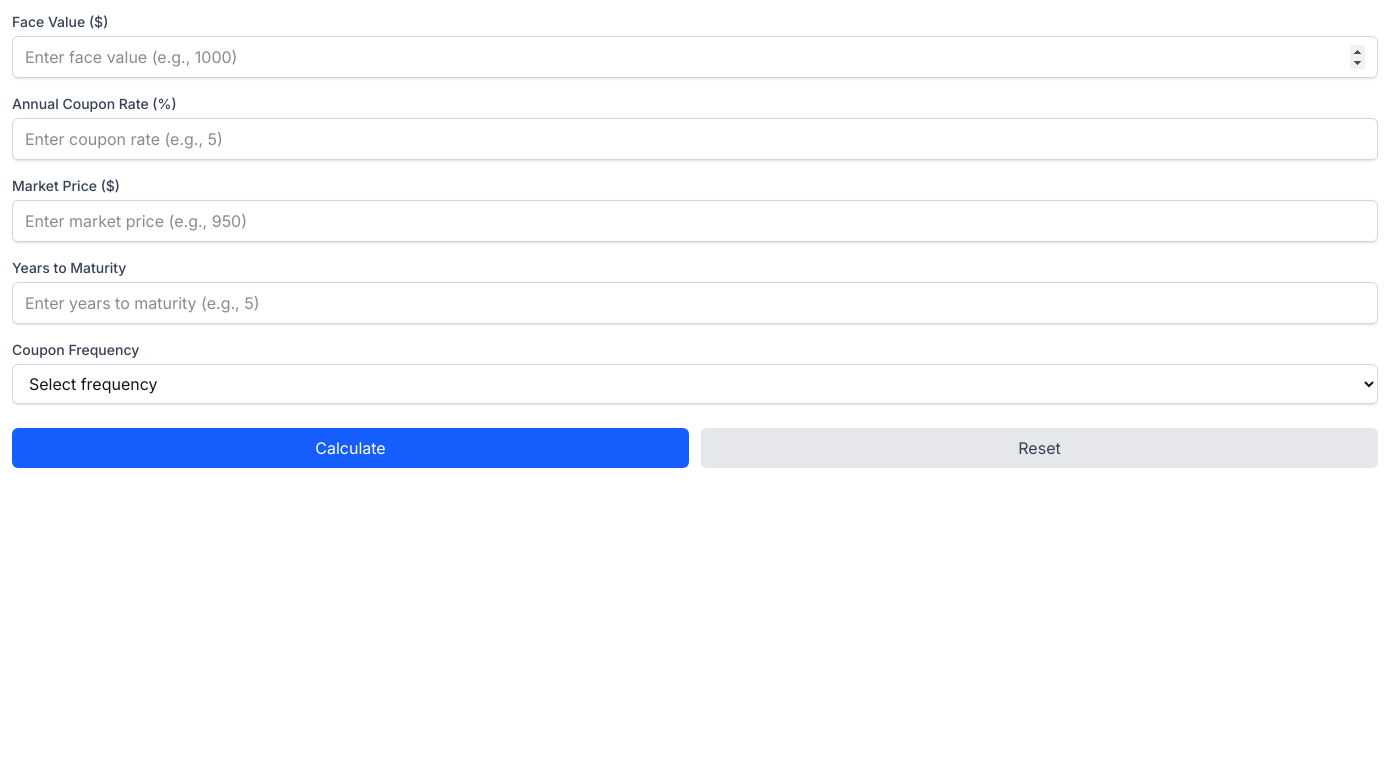
it: BondForm › shows validation error for negative face value
Type "-100" into the number field labelled "Face Value ($)".
click(695, 57); type("-100")  # box [12, 36, 1378, 78]
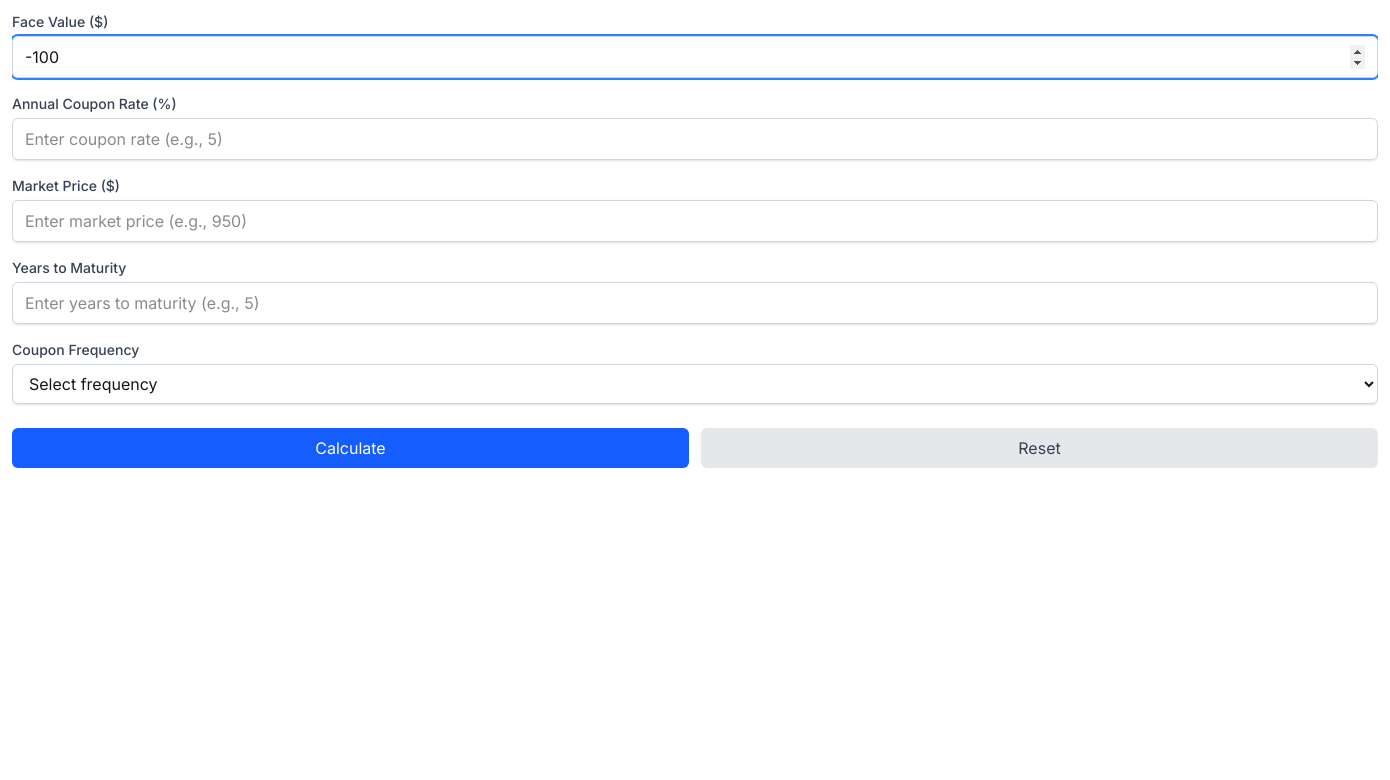
Click the button "Calculate".
click(350, 448)  # box [12, 428, 689, 468]
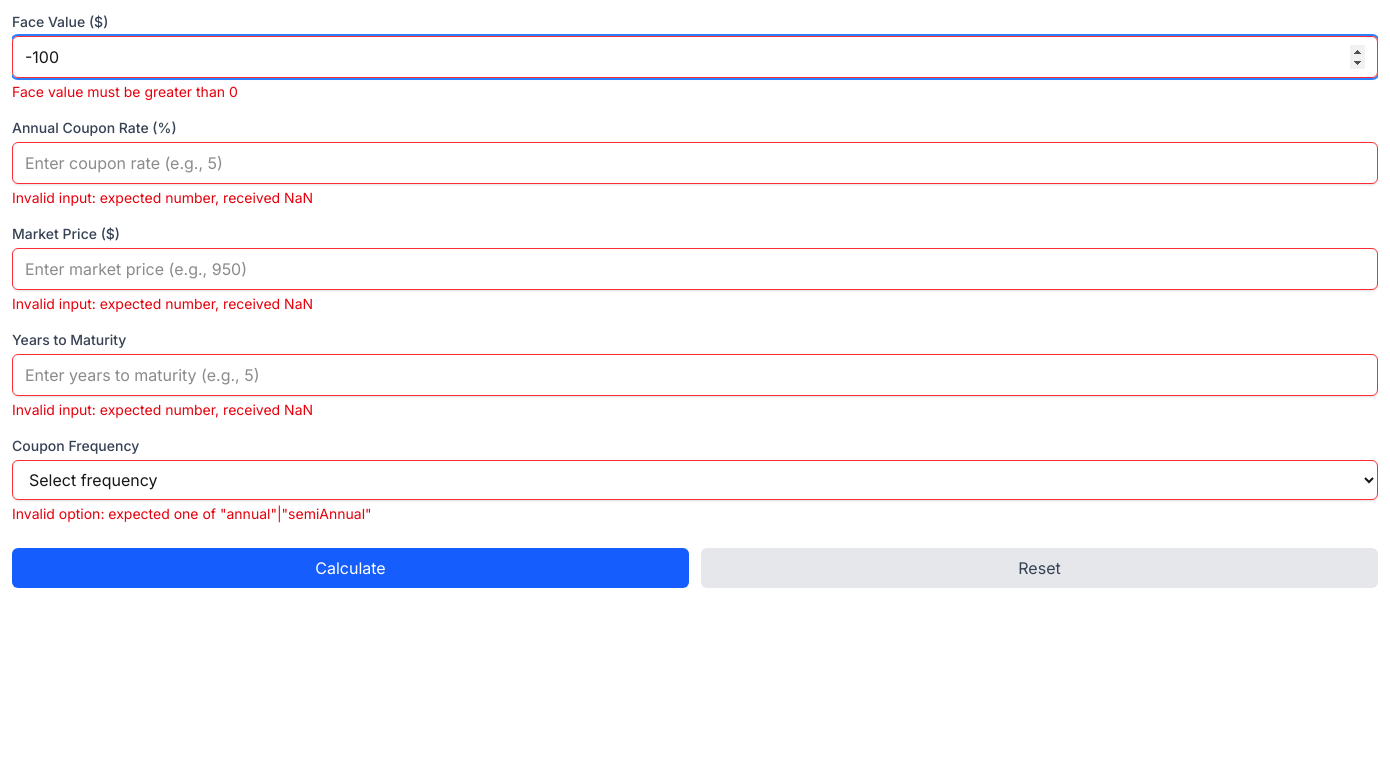
Check: the text "Face value must be greater than 0" is shown, box [12, 83, 238, 100]
